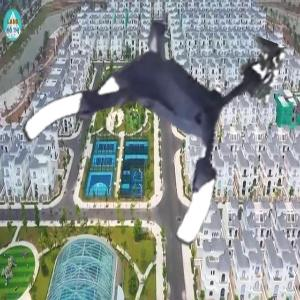drone: (34, 2, 259, 227)
